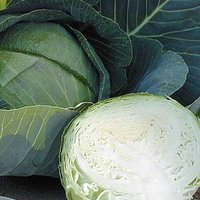cabbage: (0, 8, 136, 179), (58, 90, 199, 199)
